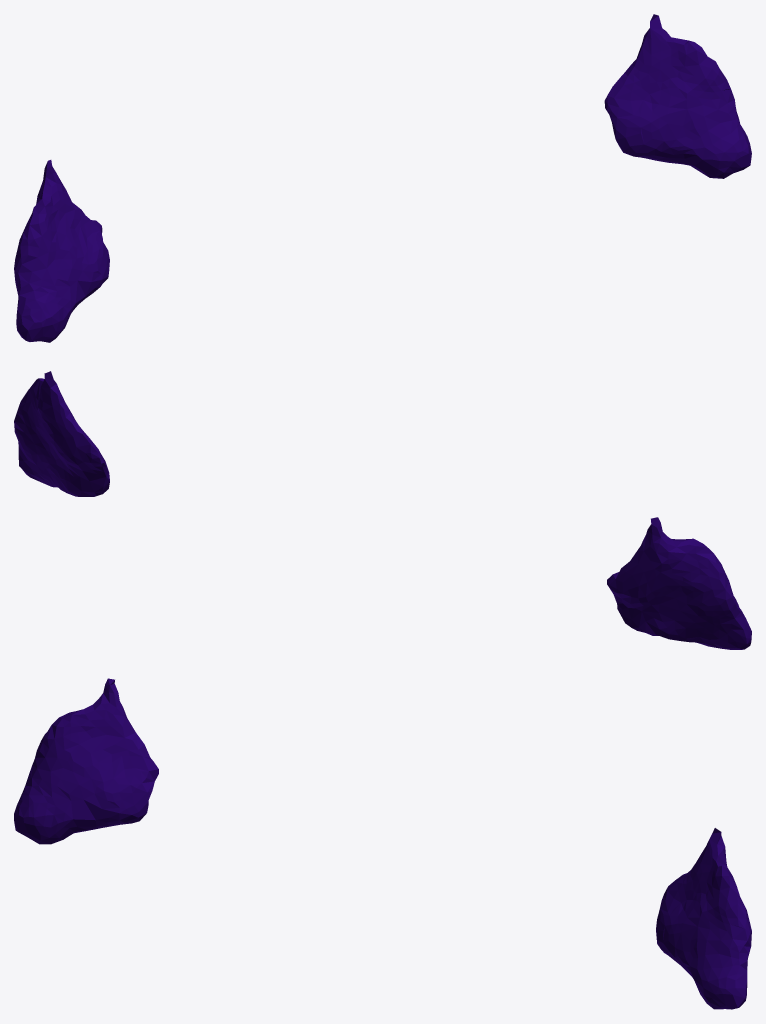
Rendered from 176-TEOM-temporal area TE, occipitomedial part-('0.1922', '0.0000', '0.4980').obj.
3 views of the same model, one above another, from view 1: azimuth 30°, elevation 25°; view 2: azimuth 150°, elevation 25°; view 3: azimuth 330°, elevation 25° (orthographic).
Size of the model in its own units: 359 by 69.86 by 36.3.
